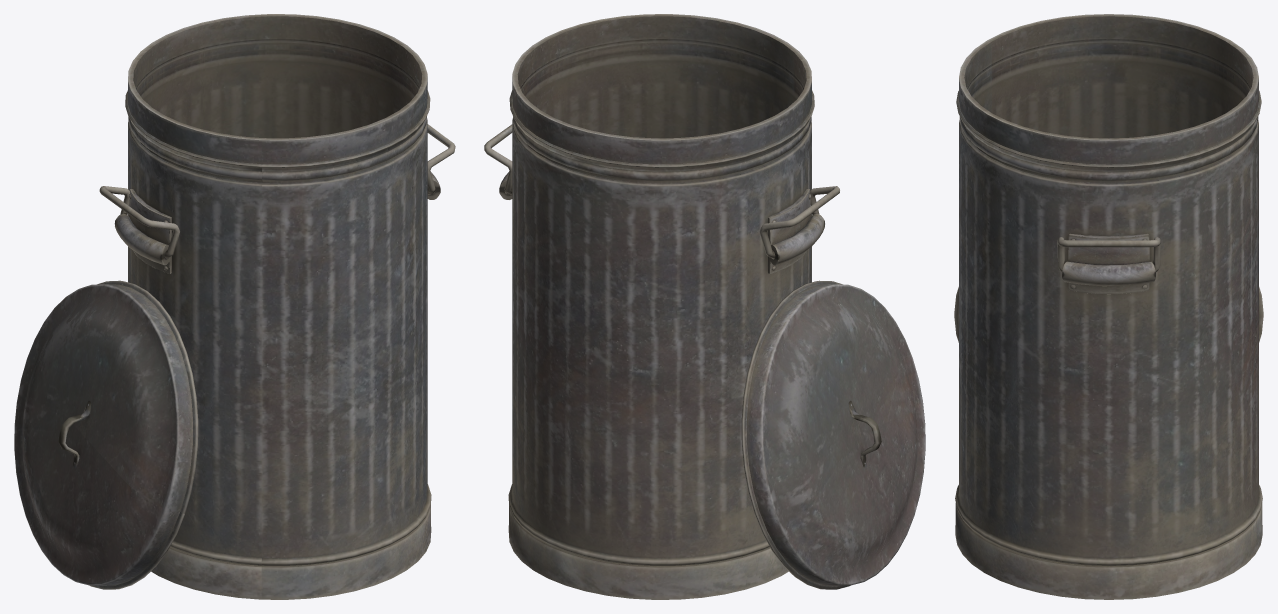
Rendered from trash_can_clean.glb.
3 views of the same model, side by side, from view 1: azimuth 30°, elevation 25°; view 2: azimuth 150°, elevation 25°; view 3: azimuth 270°, elevation 25° (orthographic).
Parts seen in each view (by area): view 1: trash_can_clean; view 2: trash_can_clean; view 3: trash_can_clean.
Boxes of the visible parts, box(x1,y1,x2,y2) form: trash_can_clean: box(14, 14, 455, 599); trash_can_clean: box(484, 14, 925, 599); trash_can_clean: box(954, 14, 1263, 599).
Size of the model in its own units: 0.7779 by 0.9062 by 0.5554.
1 material, 1 textured.
